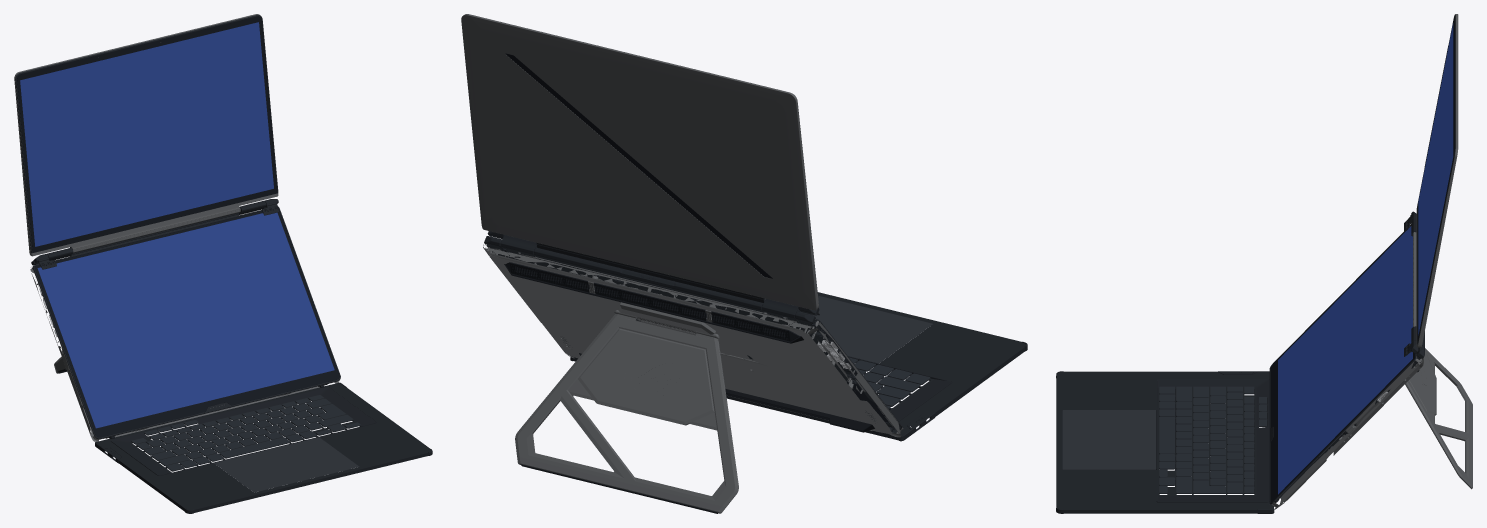
File: gx651-official.glb
3 renders of one model, left to right at view 1: azimuth 30°, elevation 25°; view 2: azimuth 150°, elevation 25°; view 3: azimuth 270°, elevation 25°, orthographic. The views are drawn at different scales.
Parts seen in each view (by area): view 1: GX651-lower-display-Official_display_lower, GX651-upper-display-Official_display_upper, GX651-keyboard-Official_CMF_matte_black, GX651-keyboard-Official_keyboard_keycaps, GX651-lower-display-Official_CMF_black_glass, GX651-upper-display-Official_CMF_black_glass, GX651-keyboard-Official_keyboard_touchpad, GX651-lower-display-Official_CMF_matte_black, GX651-upper-display-Official_CMF_dark_titanium, GX651-upper-display-Official_CMF_matte_black, GX651-lower-display-Official_CMF_dark_titanium; view 2: GX651-upper-display-Official_CMF_dark_titanium, GX651-kickstand-Official_CMF_dark_titanium, GX651-lower-display-Official_CMF_dark_titanium, GX651-keyboard-Official_CMF_matte_black, GX651-lower-display-Official_CMF_matte_black, GX651-lower-display-Official_CMF_rubber, GX651-keyboard-Official_keyboard_touchpad, GX651-keyboard-Official_keyboard_keycaps, GX651-upper-display-Official_CMF_black_glass, GX651-upper-display-Official_CMF_matte_black; view 3: GX651-lower-display-Official_display_lower, GX651-keyboard-Official_CMF_matte_black, GX651-keyboard-Official_keyboard_keycaps, GX651-keyboard-Official_keyboard_touchpad, GX651-upper-display-Official_display_upper, GX651-kickstand-Official_CMF_dark_titanium, GX651-upper-display-Official_CMF_dark_titanium, GX651-lower-display-Official_CMF_dark_titanium, GX651-lower-display-Official_CMF_matte_black, GX651-lower-display-Official_CMF_black_glass, GX651-upper-display-Official_CMF_matte_black, GX651-upper-display-Official_CMF_black_glass.
Part boxes in pixels (box(x1,y1,x2,y2)): GX651-lower-display-Official_display_lower: box(37, 212, 334, 428); GX651-upper-display-Official_display_upper: box(20, 22, 273, 246); GX651-keyboard-Official_CMF_matte_black: box(95, 382, 432, 513); GX651-keyboard-Official_keyboard_keycaps: box(131, 395, 360, 471); GX651-lower-display-Official_CMF_black_glass: box(34, 207, 339, 437); GX651-upper-display-Official_CMF_black_glass: box(17, 16, 277, 252); GX651-keyboard-Official_keyboard_touchpad: box(214, 437, 359, 492); GX651-lower-display-Official_CMF_matte_black: box(31, 199, 340, 439); GX651-upper-display-Official_CMF_dark_titanium: box(14, 14, 278, 256); GX651-upper-display-Official_CMF_matte_black: box(15, 15, 278, 253); GX651-lower-display-Official_CMF_dark_titanium: box(30, 214, 340, 441); GX651-upper-display-Official_CMF_dark_titanium: box(461, 14, 818, 310); GX651-kickstand-Official_CMF_dark_titanium: box(515, 310, 738, 513); GX651-lower-display-Official_CMF_dark_titanium: box(483, 243, 903, 437); GX651-keyboard-Official_CMF_matte_black: box(570, 292, 1027, 441); GX651-lower-display-Official_CMF_matte_black: box(484, 231, 902, 431); GX651-lower-display-Official_CMF_rubber: box(504, 262, 880, 435); GX651-keyboard-Official_keyboard_touchpad: box(800, 295, 932, 363); GX651-keyboard-Official_keyboard_keycaps: box(849, 357, 930, 408); GX651-upper-display-Official_CMF_black_glass: box(505, 53, 772, 278); GX651-upper-display-Official_CMF_matte_black: box(536, 95, 818, 303); GX651-lower-display-Official_display_lower: box(1278, 226, 1412, 494); GX651-keyboard-Official_CMF_matte_black: box(1056, 371, 1274, 513); GX651-keyboard-Official_keyboard_keycaps: box(1159, 386, 1266, 493); GX651-keyboard-Official_keyboard_touchpad: box(1062, 410, 1155, 469); GX651-upper-display-Official_display_upper: box(1418, 23, 1453, 335); GX651-kickstand-Official_CMF_dark_titanium: box(1405, 348, 1472, 489); GX651-upper-display-Official_CMF_dark_titanium: box(1413, 14, 1458, 348); GX651-lower-display-Official_CMF_dark_titanium: box(1270, 356, 1423, 509); GX651-lower-display-Official_CMF_matte_black: box(1269, 211, 1424, 504); GX651-lower-display-Official_CMF_black_glass: box(1270, 225, 1415, 502); GX651-upper-display-Official_CMF_matte_black: box(1417, 14, 1455, 344); GX651-upper-display-Official_CMF_black_glass: box(1417, 16, 1454, 342).
Bounding box in the file's own units: 0.3551 × 0.4353 × 0.4486.
